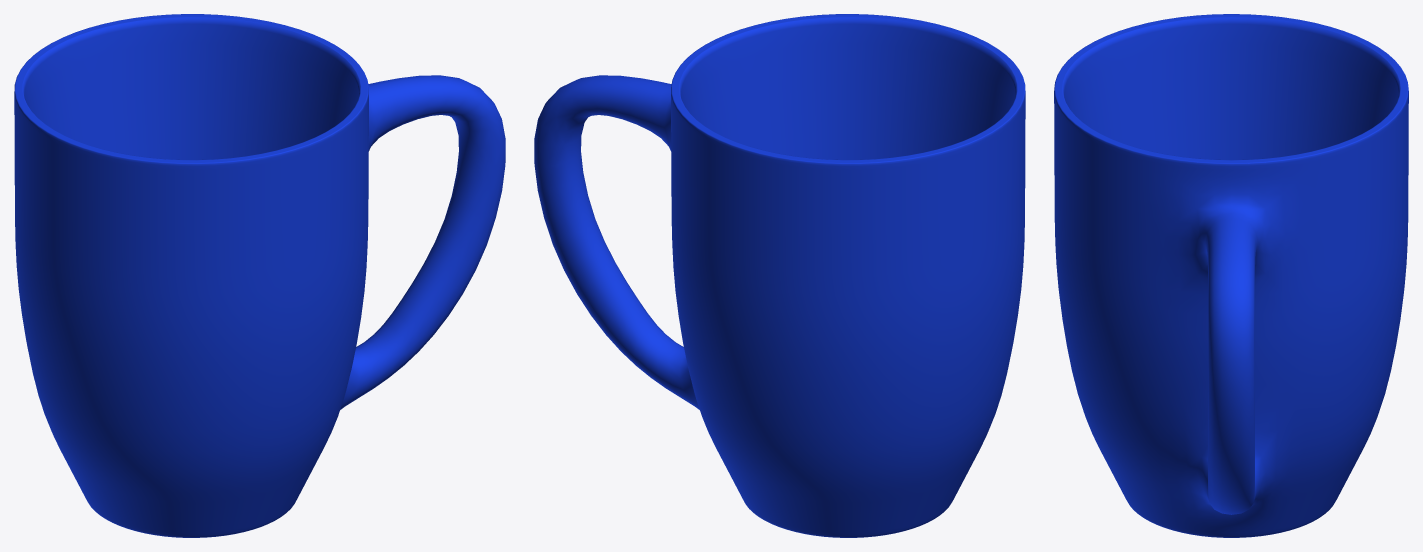
Rendered from mug3.glb.
The picture shows the model from 3 angles, left to right: view 1: azimuth 30°, elevation 25°; view 2: azimuth 150°, elevation 25°; view 3: azimuth 270°, elevation 25°; orthographic projection.
Visible parts, largest first — view 1: Cylinder.001_Material_0; view 2: Cylinder.001_Material_0; view 3: Cylinder.001_Material_0.
Part boxes in pixels (x1,y1,x2,y2): Cylinder.001_Material_0: (14,14,505,537); Cylinder.001_Material_0: (534,14,1025,537); Cylinder.001_Material_0: (1054,14,1408,537).
Bounding box in the file's own units: 422 × 352 × 280.
